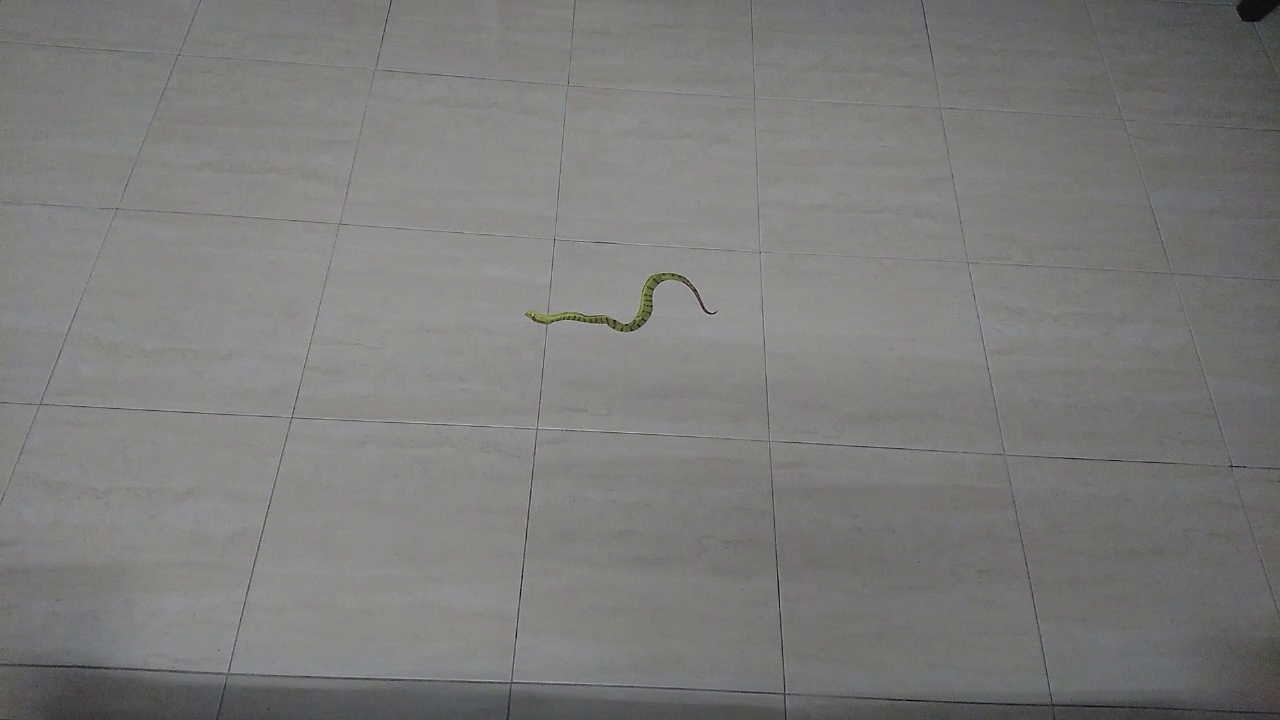snake: (500, 254, 727, 348)
